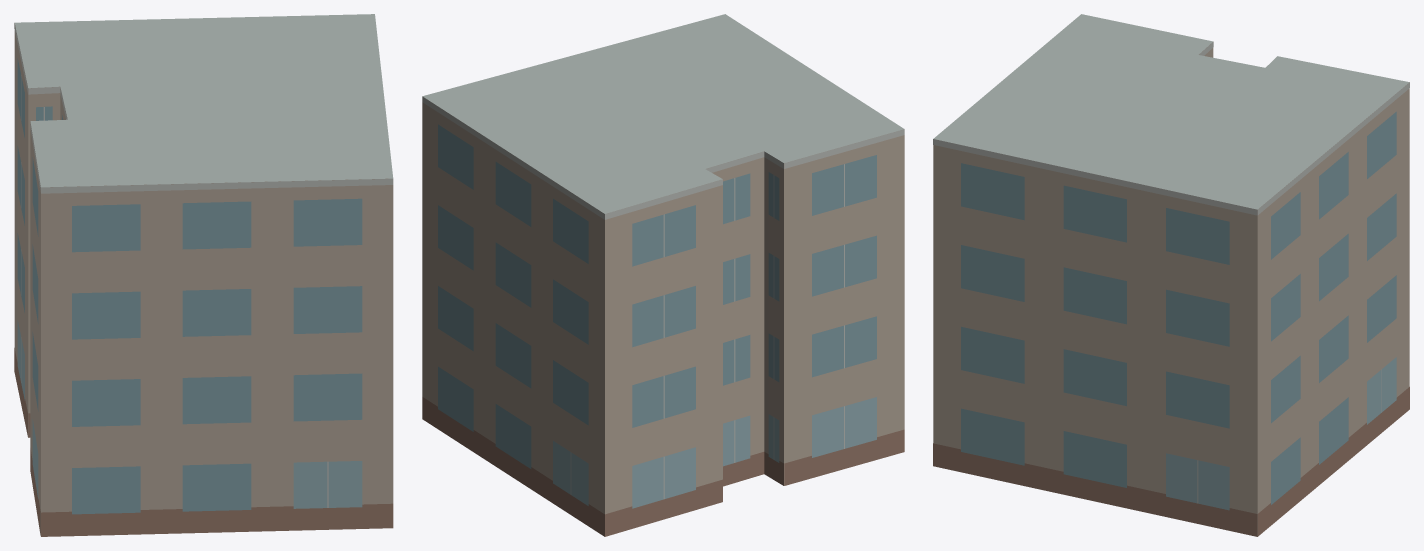
Rendered from survey-upis-32741436.glb.
The picture shows the model from 3 angles, left to right: view 1: azimuth 30°, elevation 25°; view 2: azimuth 150°, elevation 25°; view 3: azimuth 270°, elevation 25°; orthographic projection. The views are drawn at different scales.
Visible parts, largest first — view 1: survey-upis-32741436.tmp; view 2: survey-upis-32741436.tmp; view 3: survey-upis-32741436.tmp.
Boxes of the visible parts, left/top/right/bottom form: survey-upis-32741436.tmp: left=14, top=14, right=393, bottom=536; survey-upis-32741436.tmp: left=422, top=14, right=904, bottom=536; survey-upis-32741436.tmp: left=933, top=14, right=1409, bottom=536.
Size of the model in its own units: 17.19 by 13.4 by 17.7.
